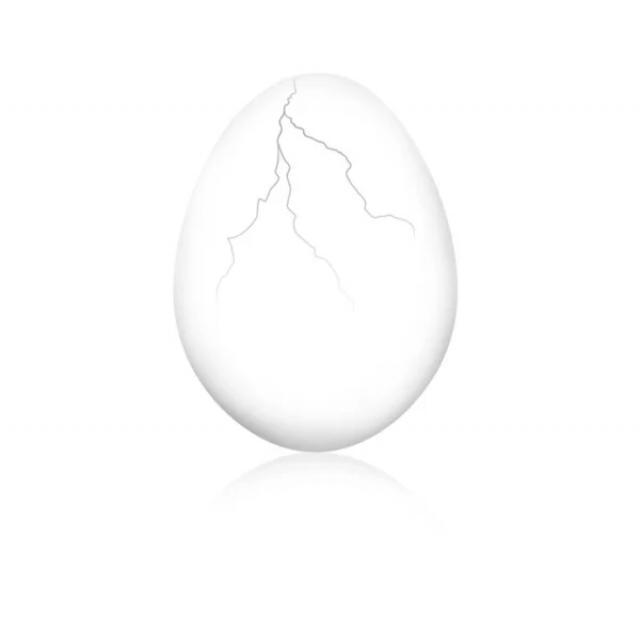biodegradable: (173, 67, 466, 458)
